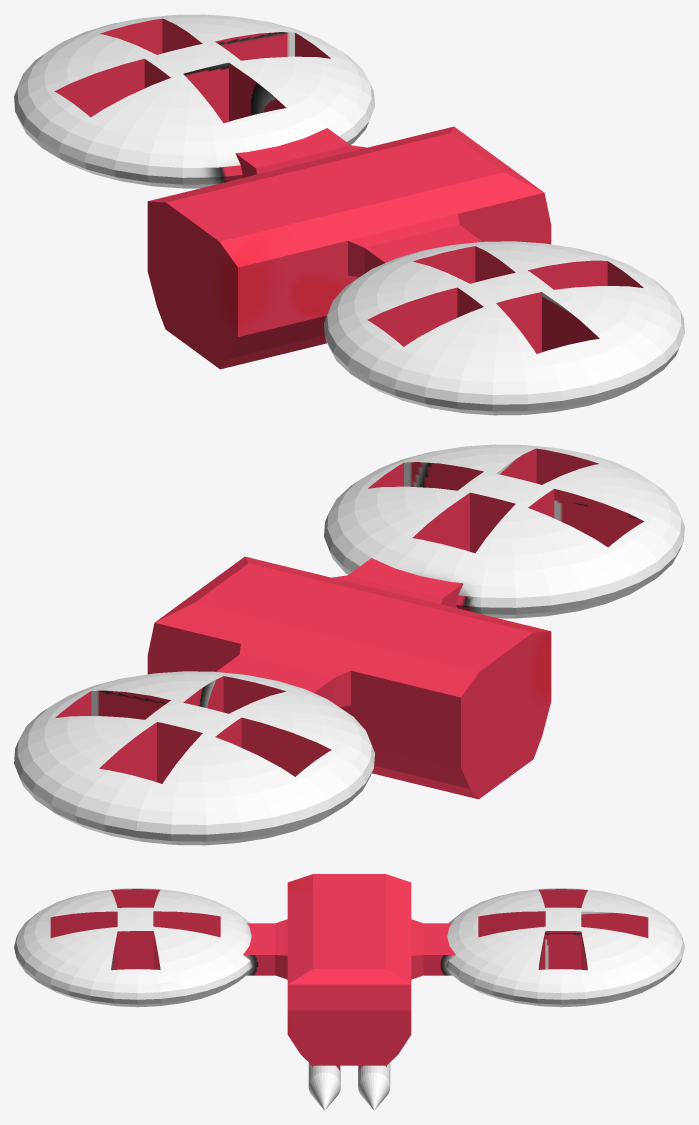
File: Drone.obj
3 renders of one model, top to bottom at view 1: azimuth 30°, elevation 25°; view 2: azimuth 150°, elevation 25°; view 3: azimuth 270°, elevation 25°, orthographic. The views are drawn at different scales.
Parts seen in each view (by area): view 1: Cube; view 2: Cube; view 3: Cube.
Part boxes in pixels (box(x1,y1,x2,y2)): Cube: box(14, 14, 684, 415); Cube: box(14, 444, 684, 845); Cube: box(14, 874, 684, 1110).
Bounding box in the file's own units: 2.36 × 1.21 × 5.43.
1 material, 1 textured.
